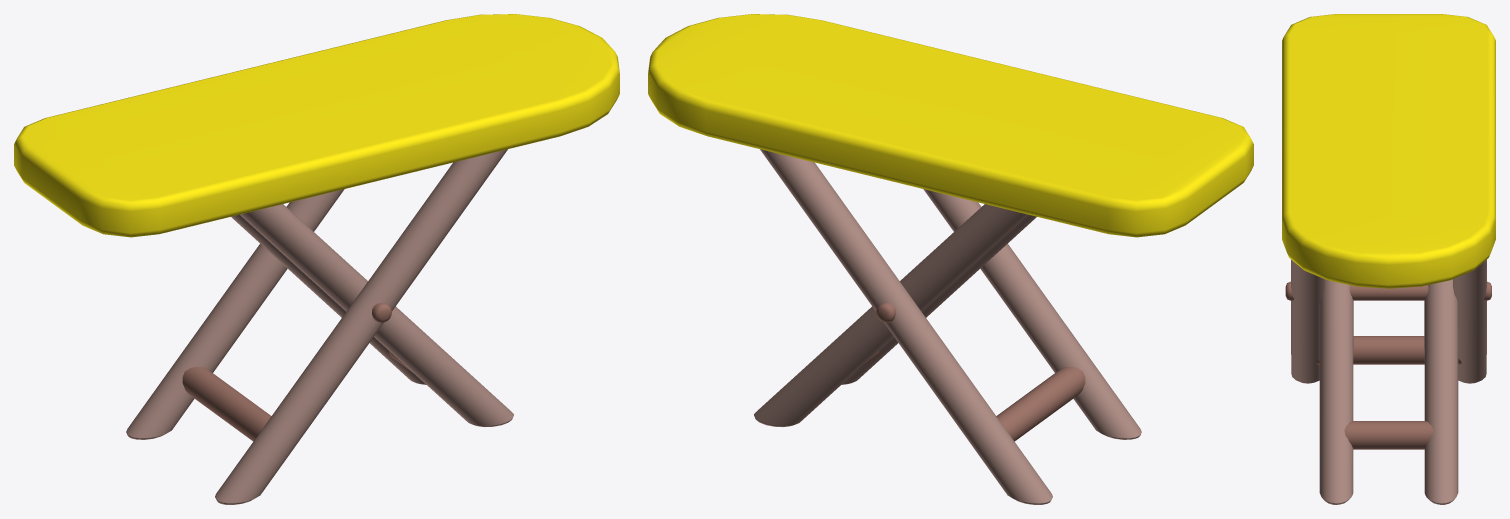
The model's file is Public_19_Ironing_Board_1.glb.
3 renders of one model, left to right at view 1: azimuth 30°, elevation 25°; view 2: azimuth 150°, elevation 25°; view 3: azimuth 270°, elevation 25°, orthographic. The views are drawn at different scales.
Visible parts, largest first — view 1: Public_19_Ironing_Board_1; view 2: Public_19_Ironing_Board_1; view 3: Public_19_Ironing_Board_1.
Boxes of the visible parts, x1,y1,x2,y2 form: Public_19_Ironing_Board_1: (14,14,619,504); Public_19_Ironing_Board_1: (648,14,1253,504); Public_19_Ironing_Board_1: (1282,14,1495,504).
Size of the model in its own units: 2.09 by 1.19 by 0.7633.
Materials: 1 (1 with a texture image).
